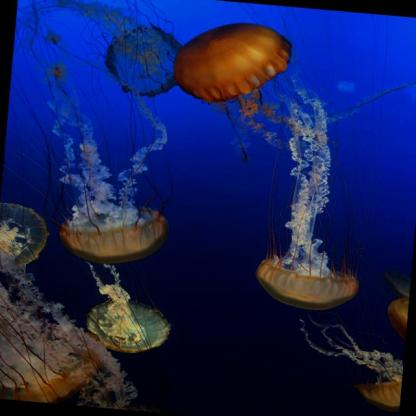jellyfish: (169, 17, 294, 114), (0, 320, 106, 403), (57, 200, 172, 266), (254, 249, 364, 311), (102, 20, 186, 101), (74, 292, 174, 354), (0, 201, 49, 270), (346, 370, 402, 412), (381, 295, 409, 345), (381, 264, 411, 296), (18, 0, 128, 7)
